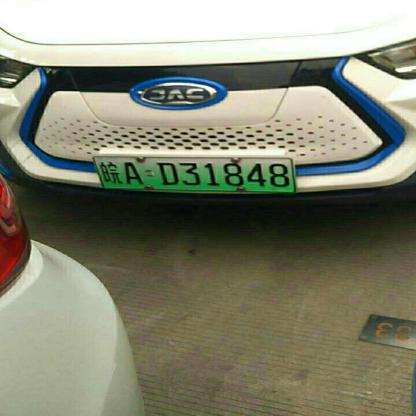lp: (93, 154, 295, 191)
